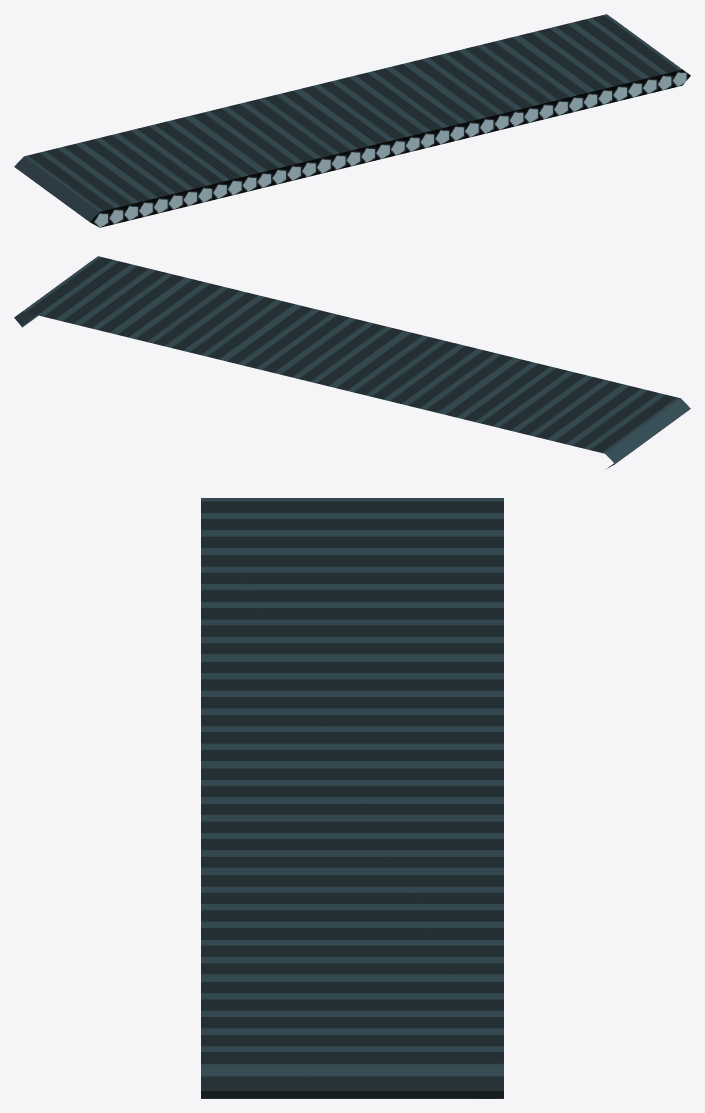
Rendered from conveyor.fbx.
3 views of the same model, one above another, from view 1: azimuth 30°, elevation 25°; view 2: azimuth 150°, elevation 25°; view 3: azimuth 270°, elevation 25° (orthographic). The views are drawn at different scales.
Parts seen in each view (by area): view 1: Cube; view 2: Cube; view 3: Cube.
Part boxes in pixels (box(x1,y1,x2,y2)): Cube: box(14, 14, 690, 227); Cube: box(14, 256, 690, 468); Cube: box(201, 498, 503, 1098).
Bounding box in the file's own units: 915 × 23.28 × 200.
Materials: 2 (2 with a texture image).
